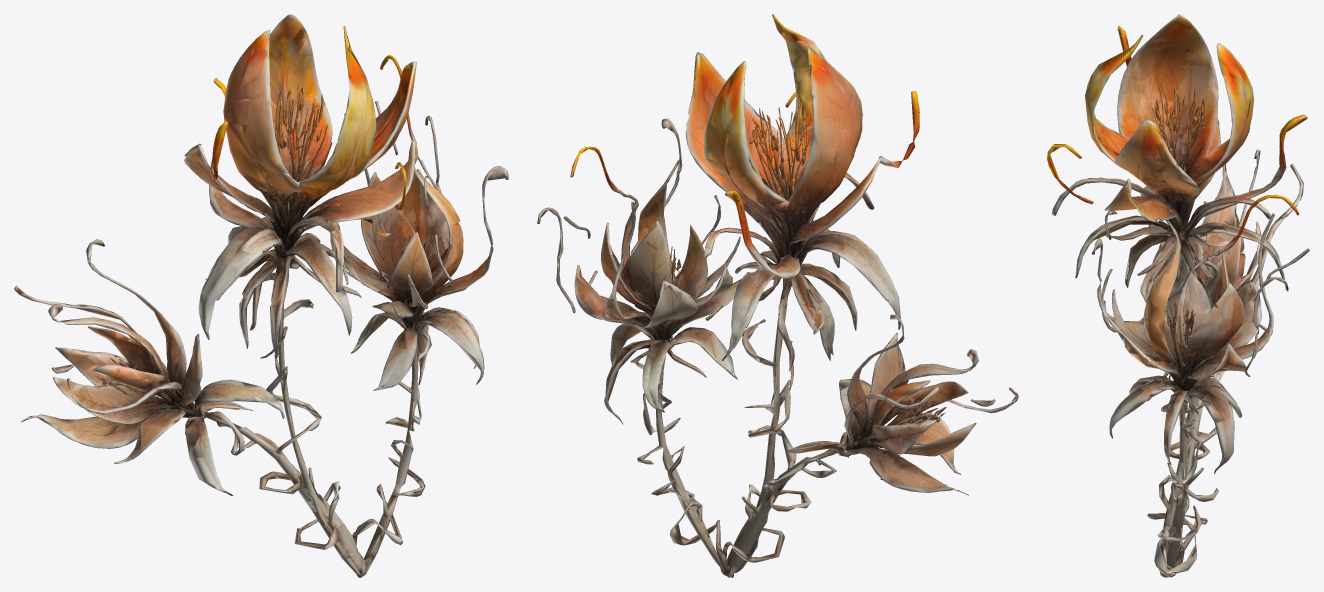
File: field_flower_4.glb
3 views of the same model, side by side, from view 1: azimuth 30°, elevation 25°; view 2: azimuth 150°, elevation 25°; view 3: azimuth 270°, elevation 25° (orthographic). The views are drawn at different scales.
Bounding box in the file's own units: 1.56 × 2 × 0.8988.
1 material, 1 textured.
